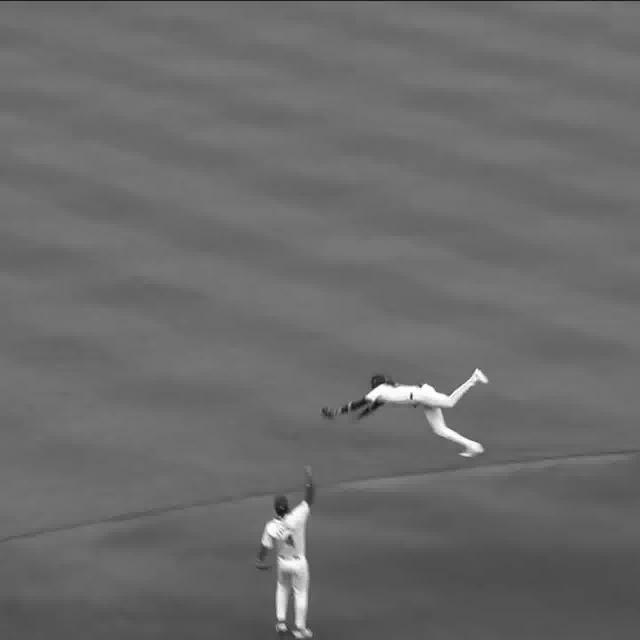baseball_glove: (256, 557, 274, 574), (324, 405, 339, 419)
shoe: (458, 440, 491, 459), (473, 367, 492, 384), (294, 627, 315, 639), (275, 620, 293, 632)
